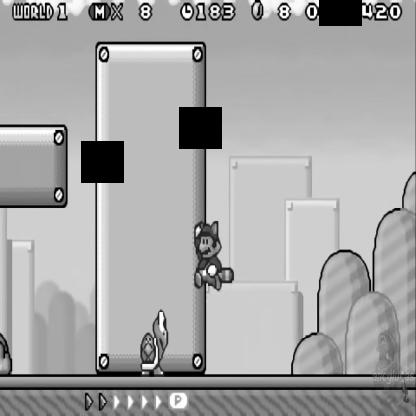Mario: (191, 219, 234, 291)
koopa: (135, 308, 173, 376)
